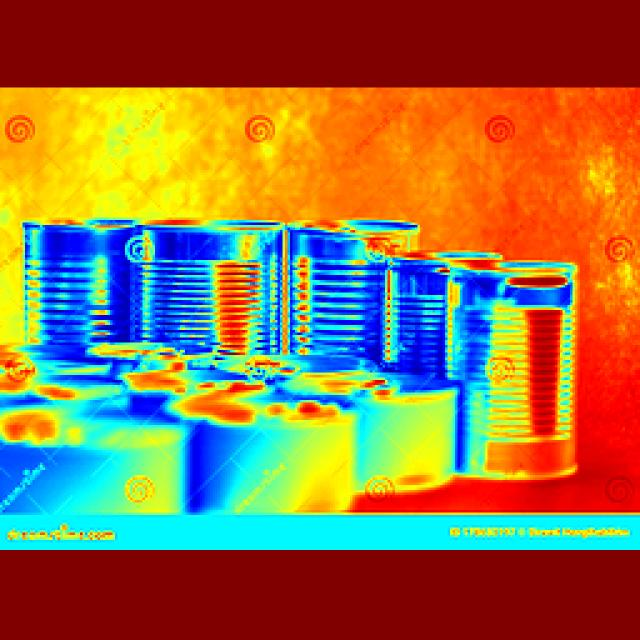Aluminium Food Cans: (448, 268, 582, 497), (130, 206, 281, 356), (16, 187, 151, 345), (6, 406, 202, 512), (271, 202, 394, 358), (203, 384, 327, 505), (348, 368, 463, 477), (380, 240, 451, 376)
